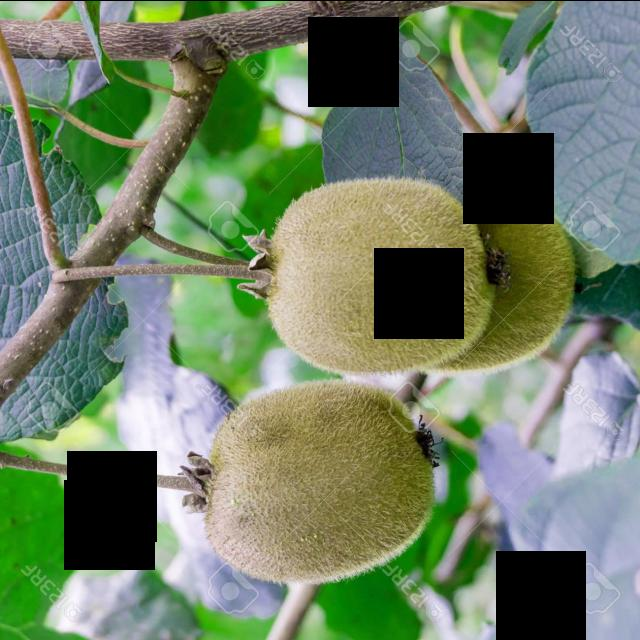kiwi: (194, 373, 446, 594), (266, 170, 493, 381), (435, 184, 579, 380)
